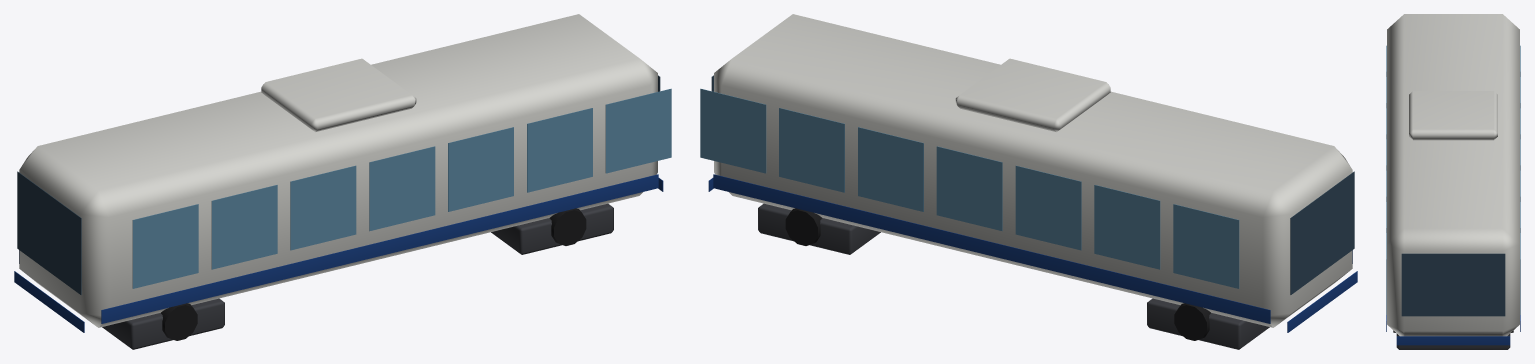
Rendered from MetromoverMIA.fbx.
3 renders of one model, left to right at view 1: azimuth 30°, elevation 25°; view 2: azimuth 150°, elevation 25°; view 3: azimuth 270°, elevation 25°, orthographic. The views are drawn at different scales.
Parts seen in each view (by area): view 1: MetromoverMIA; view 2: MetromoverMIA; view 3: MetromoverMIA.
Part boxes in pixels (x1=…): MetromoverMIA: x1=14, y1=14, x2=671, y2=349; MetromoverMIA: x1=700, y1=14, x2=1357, y2=349; MetromoverMIA: x1=1386, y1=14, x2=1520, y2=349.
Bounding box in the file's own units: 11.06 × 3.25 × 2.72.
